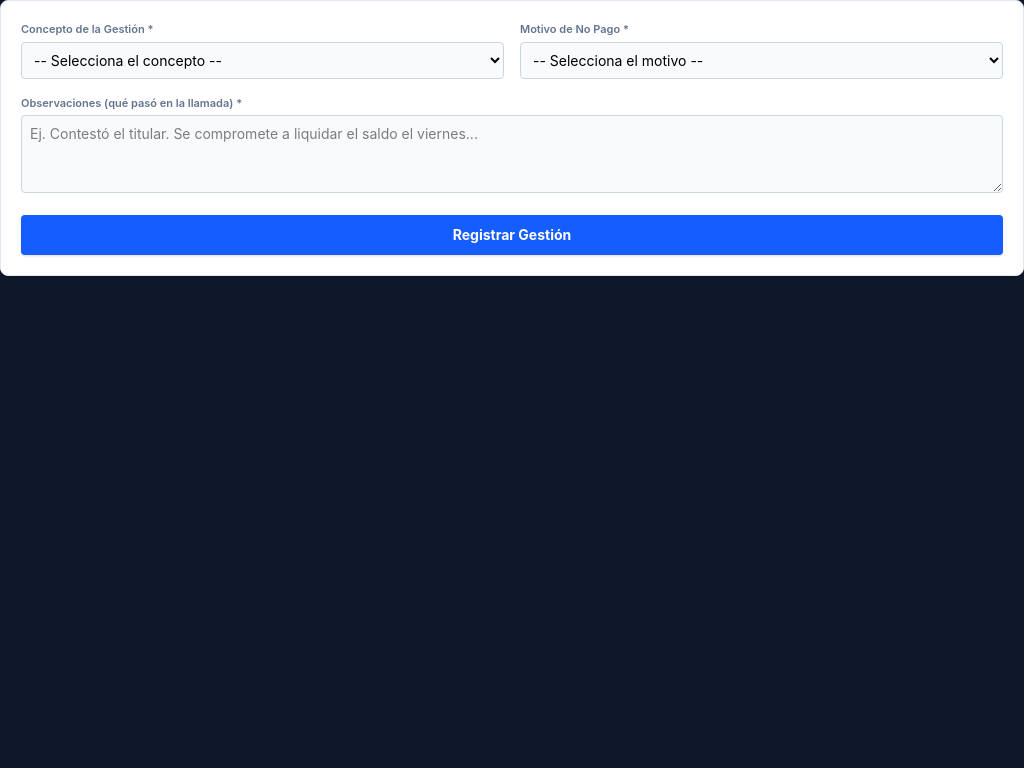
Test: GestionForm: gestion sin promesa › detecta la promesa por el nombre aunque la categoria no la mencione
This screenshot has width=1024, height=768.
Select "Compromiso de Promesa" in the dropdown below "Concepto de la Gestión *" at (262, 60), box [21,42,504,78]
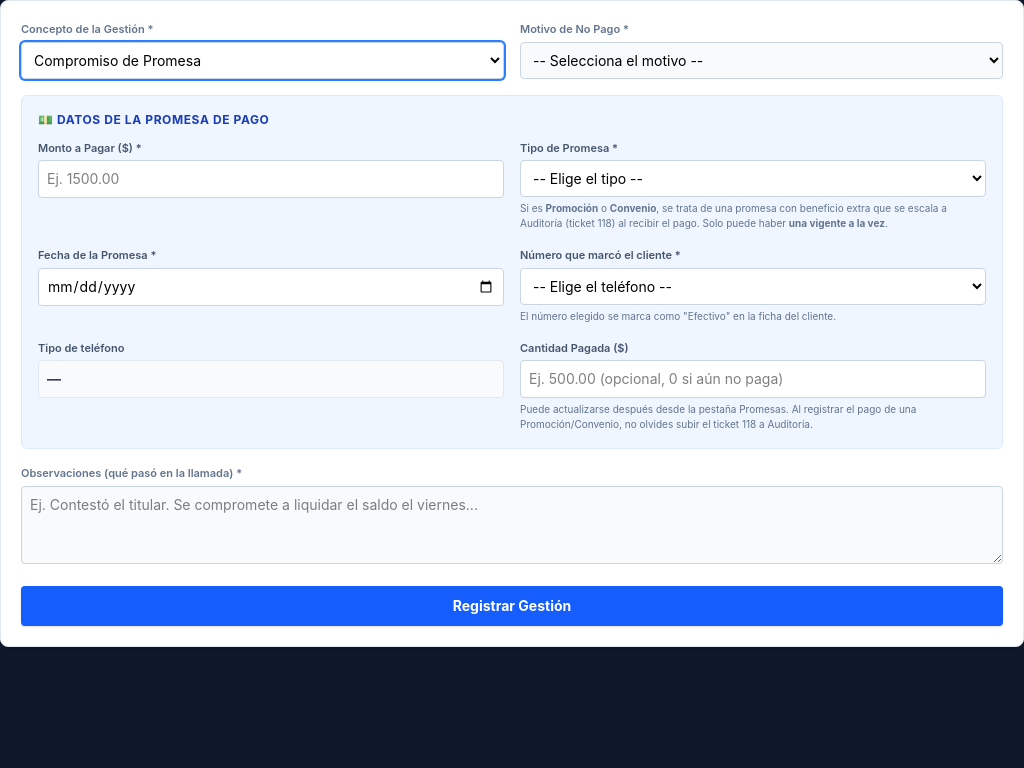
Now the heading "💵 Datos de la Promesa de Pago" is shown, box [38,112,269,126]
